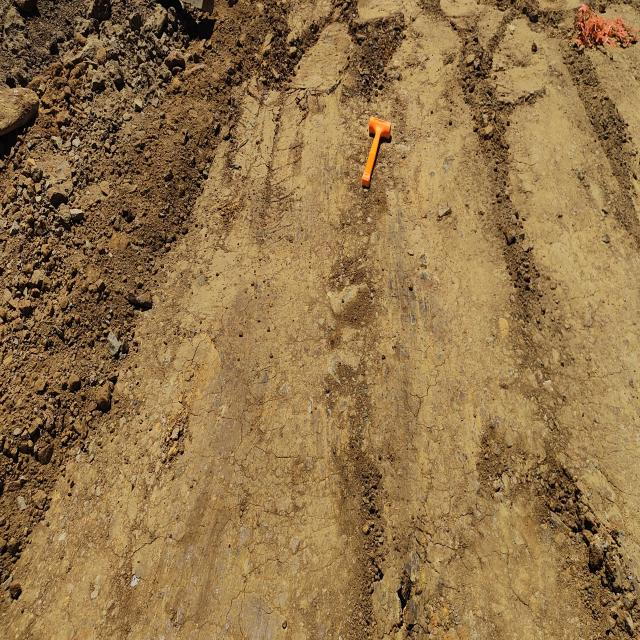Orange_hammer: (361, 114, 392, 190)
